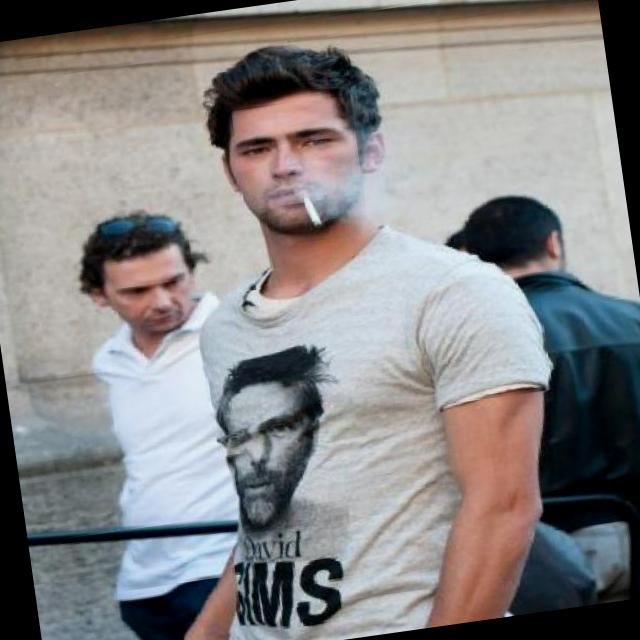cigarette: (288, 182, 328, 234)
